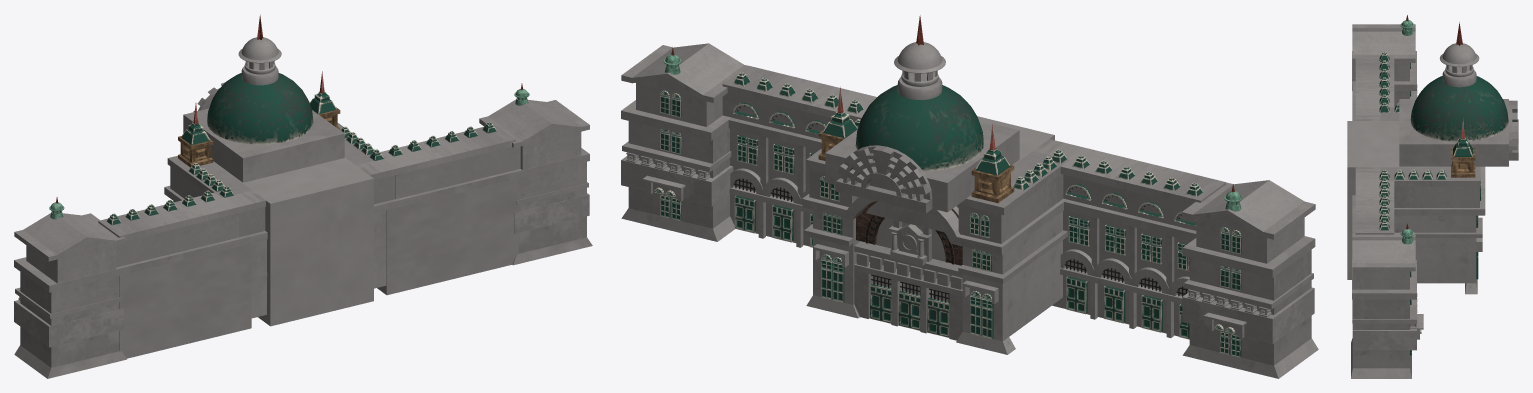
The model's file is main6.fbx.
The picture shows the model from 3 angles, left to right: view 1: azimuth 30°, elevation 25°; view 2: azimuth 150°, elevation 25°; view 3: azimuth 270°, elevation 25°; orthographic projection. The views are drawn at different scales.
Visible parts, largest first — view 1: body11, Cube, Cube.031, Cube.020, Cube.052, Cube.013, CENTER TOP sphere, Cube.005, Cube.027, body2-1, body3-2, Cube.004 (+9 smaller); view 2: Cube.020, Cube.031, body2-1, Cube.052, CENTER TOP sphere, body11, Cube.027, Cube.013, CENTER DECO, WINDOW1-4.004, Cube.005, Cube.004 (+36 smaller); view 3: Cube.020, CENTER TOP sphere, body2-1, Cube.052, Cube.031, Cube, Cube.005, body3-2, Cube.053, Cube.027, Sphere.001, Cube.004 (+9 smaller).
Part boxes in pixels (<box>): body11: <box>119,178,518,358</box>; Cube: <box>213,157,373,326</box>; Cube.031: <box>14,161,592,378</box>; Cube.020: <box>14,99,589,283</box>; Cube.052: <box>98,124,515,240</box>; Cube.013: <box>116,146,520,267</box>; CENTER TOP sphere: <box>207,73,313,144</box>; Cube.005: <box>183,108,344,182</box>; Cube.027: <box>14,193,589,347</box>; body2-1: <box>173,201,386,318</box>; body3-2: <box>170,166,395,237</box>; Cube.004: <box>14,148,589,292</box>; Cube.020: <box>621,43,1315,263</box>; Cube.031: <box>621,121,1318,378</box>; body2-1: <box>806,210,1062,354</box>; Cube.052: <box>722,65,1225,205</box>; CENTER TOP sphere: <box>855,85,983,171</box>; body11: <box>730,128,1190,336</box>; Cube.027: <box>621,156,1314,343</box>; Cube.013: <box>722,93,1196,230</box>; CENTER DECO: <box>836,145,932,213</box>; WINDOW1-4.004: <box>734,195,1189,339</box>; Cube.005: <box>825,120,1019,212</box>; Cube.004: <box>621,100,1315,277</box>; Cube.020: <box>1352,24,1415,289</box>; CENTER TOP sphere: <box>1410,76,1508,141</box>; body2-1: <box>1394,215,1482,294</box>; Cube.052: <box>1355,55,1394,234</box>; Cube.031: <box>1351,91,1411,378</box>; Cube: <box>1347,121,1450,279</box>; Cube.005: <box>1399,99,1508,166</box>; body3-2: <box>1394,186,1479,207</box>; Cube.053: <box>1380,107,1480,186</box>; Cube.027: <box>1352,314,1423,350</box>; Sphere.001: <box>1439,43,1479,87</box>; Cube.004: <box>1352,51,1416,299</box>.
Bounding box in the file's own units: 2599 × 1164 × 770.
